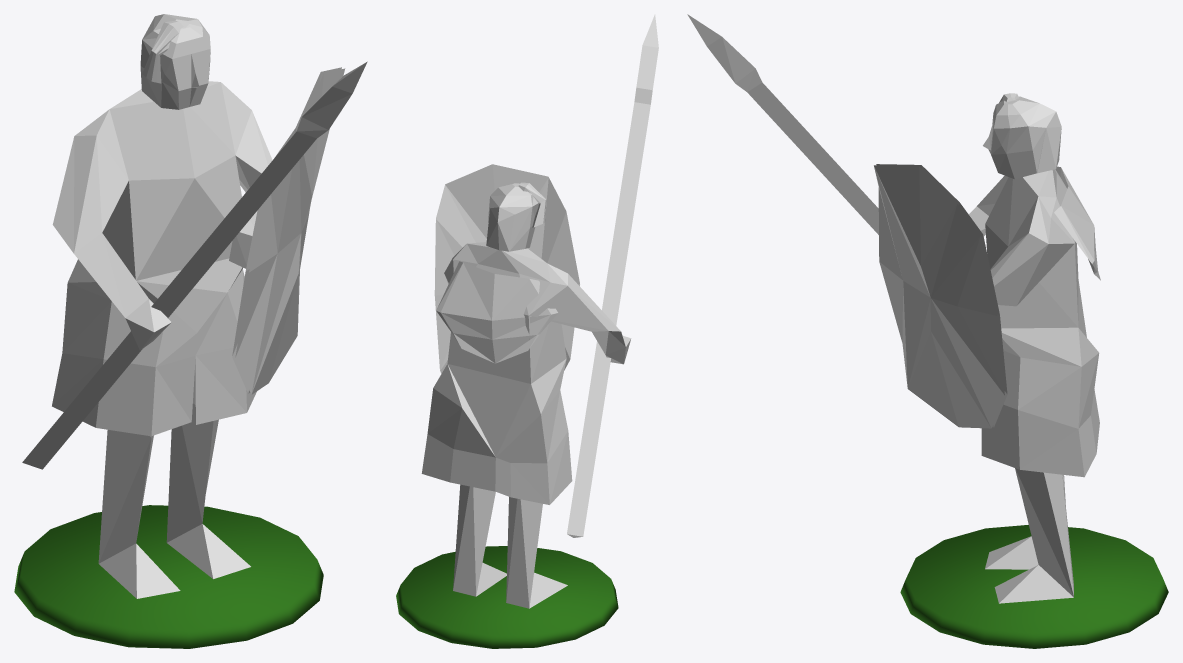
Rendered from celtic_spearman.glb.
The picture shows the model from 3 angles, left to right: view 1: azimuth 30°, elevation 25°; view 2: azimuth 150°, elevation 25°; view 3: azimuth 270°, elevation 25°; orthographic projection. The views are drawn at different scales.
Parts seen in each view (by area): view 1: celtic_spearman; view 2: celtic_spearman; view 3: celtic_spearman.
Boxes of the visible parts, x1,y1,x2,y2 form: celtic_spearman: (14,14,367,648); celtic_spearman: (396,14,658,648); celtic_spearman: (687,14,1168,648).
Size of the model in its own units: 2 by 4.74 by 3.59.
